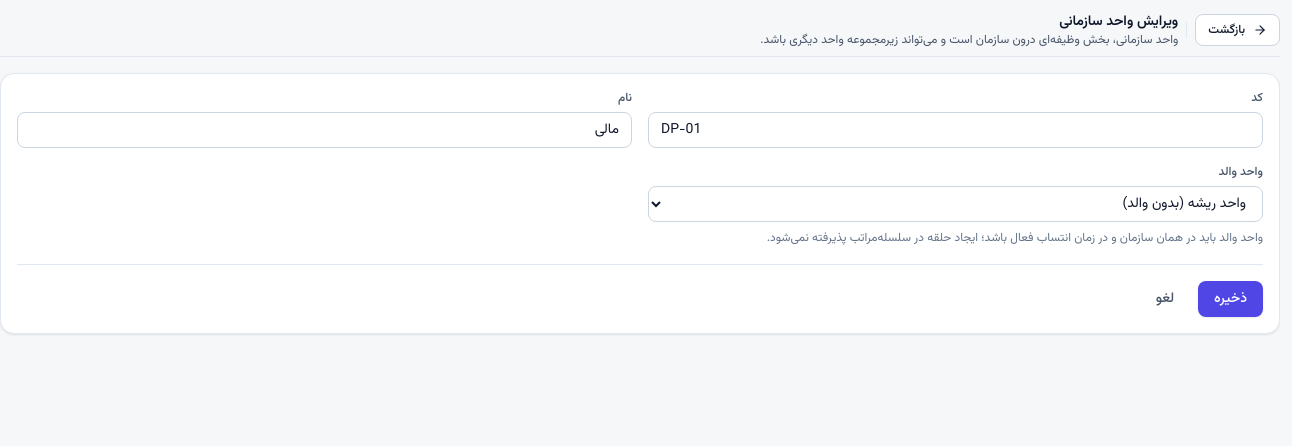
department form › surfaces the hierarchy rule (422) in the words of the rule, without inventing a sub-case
Type "x" into the field labelled "نام". click: (324, 130)
box: [17,112,632,148]
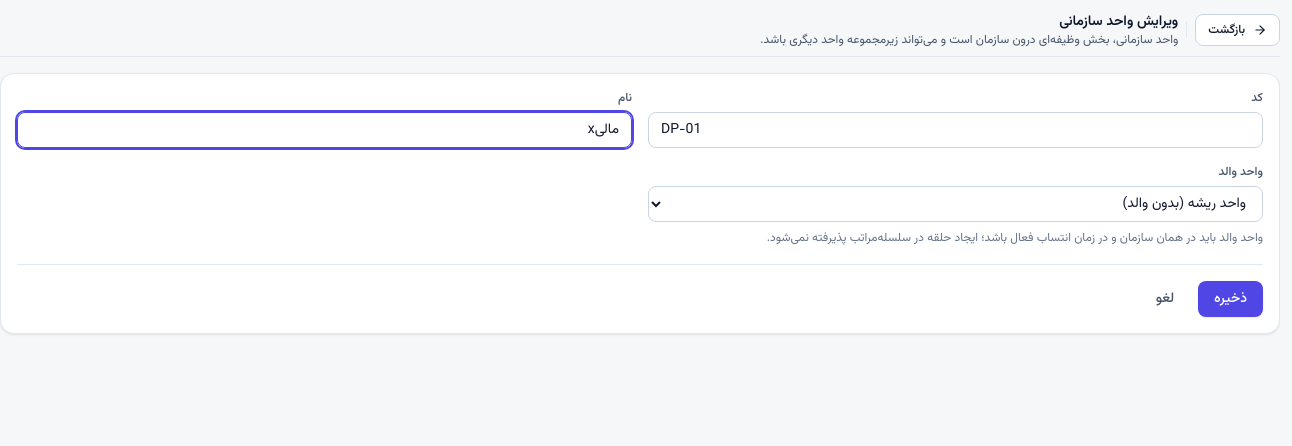
Click the button with test id "department-form-submit". click: (1231, 299)
box: [1198,281,1263,317]
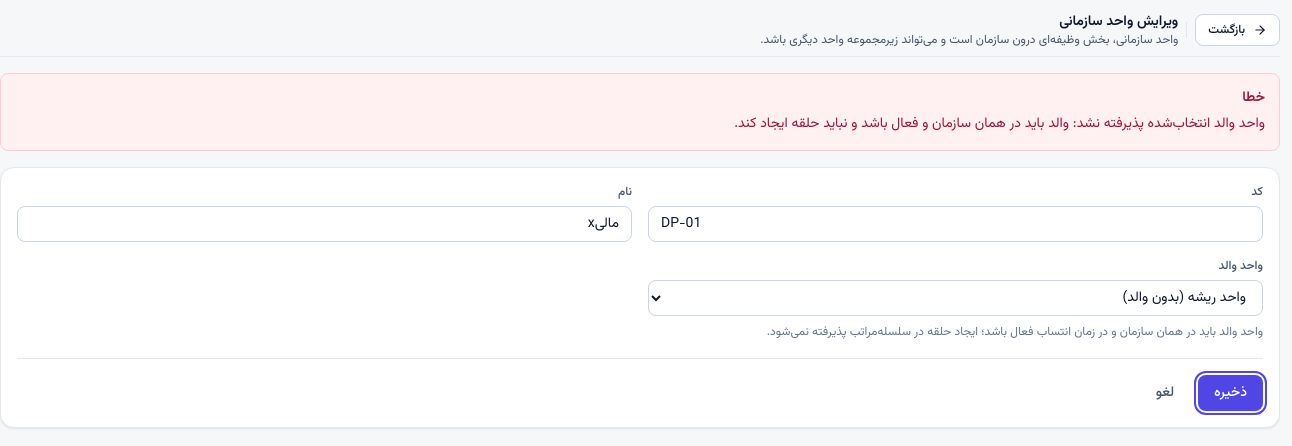
Check: the text "واحد والد انتخاب‌شده پذیرفته نشد: والد باید در همان سازمان و فعال باشد و نباید حلقه ایجاد کند." is shown, box [734,113,1265,135]
